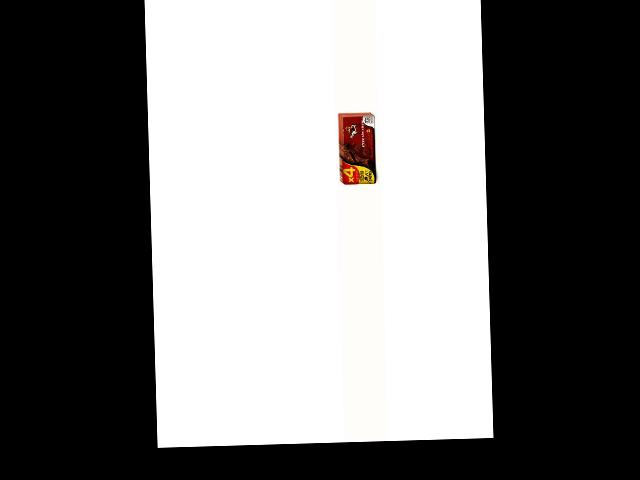chocolate: (338, 113, 378, 185)
